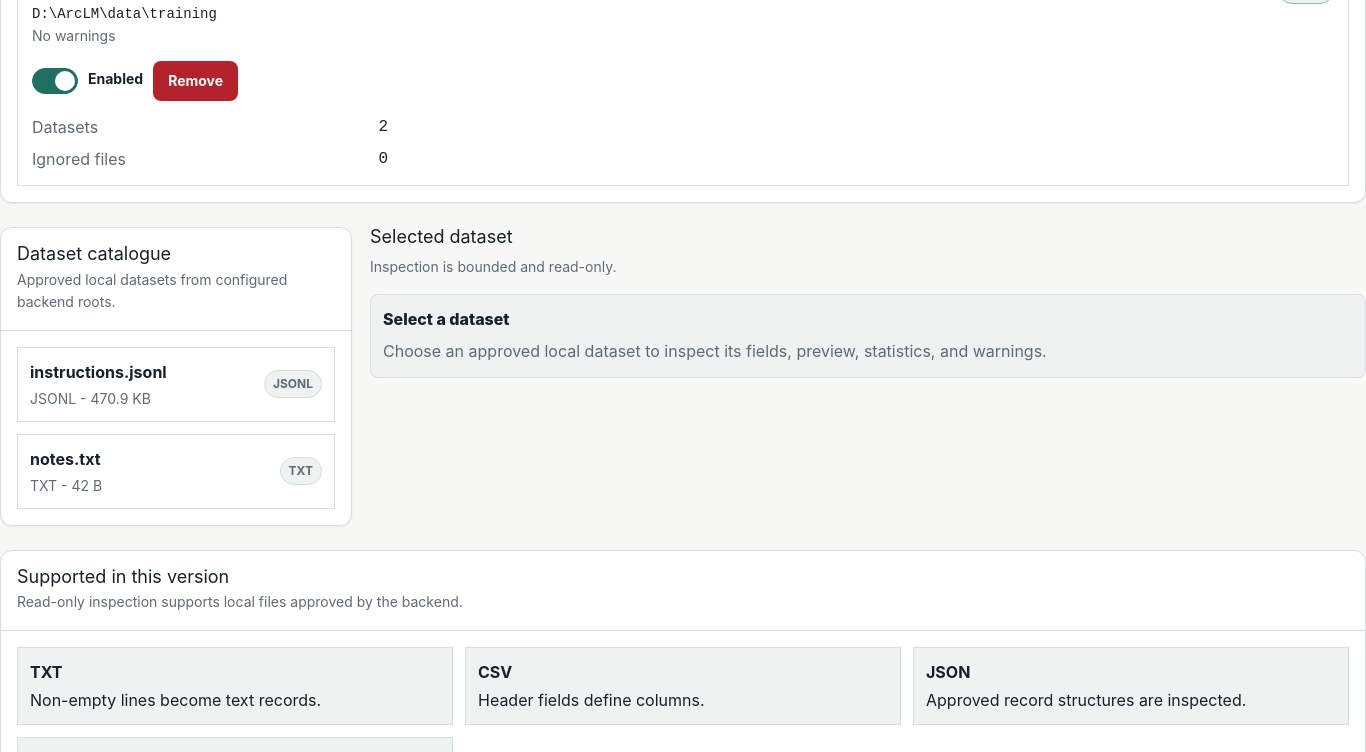
Test: DatasetInspector inspection content › supports exact inspection and empty schema states
(page scrolled)
Click the button "instructions.jsonl JSONL - 470.9 KB JSONL" at (98, 372), box x1=17 y1=347 x2=335 y2=422
(page scrolled)
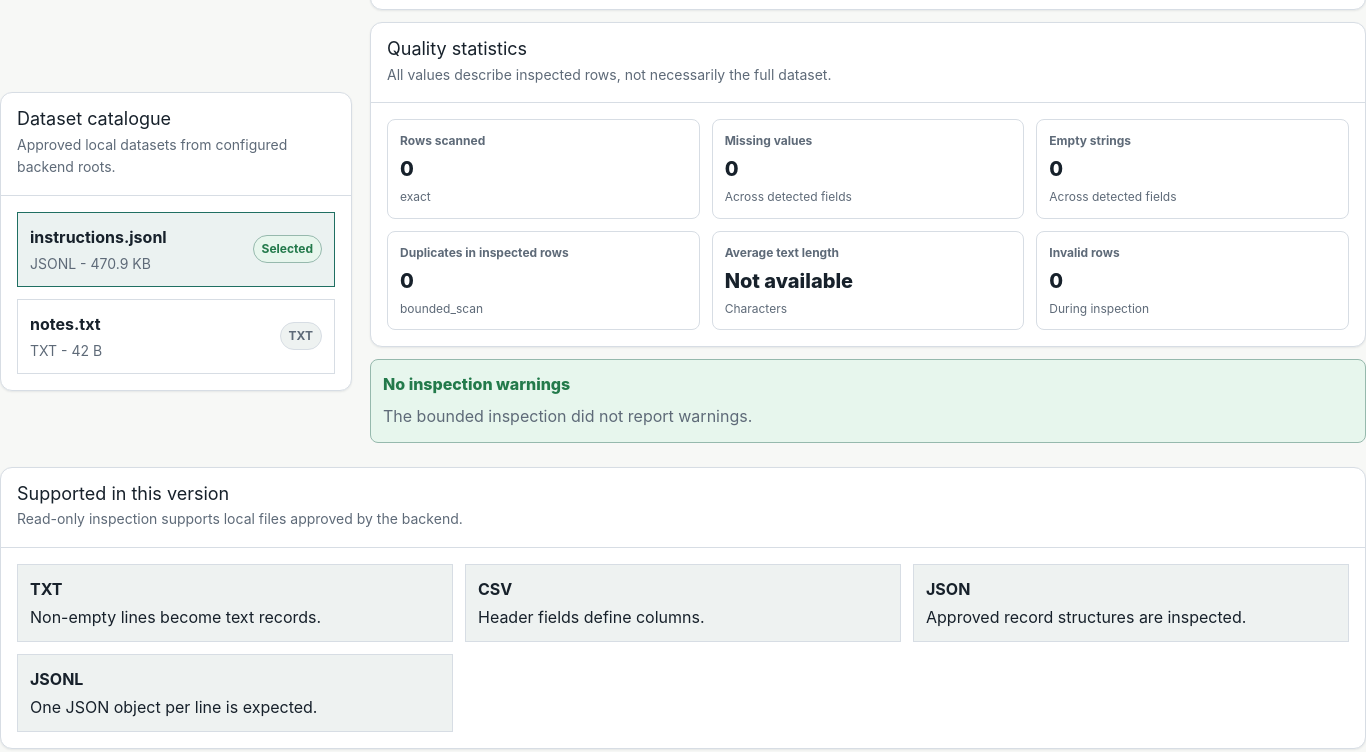
Expected: the text "No inspection warnings" is shown, x1=383 y1=374 x2=570 y2=394
